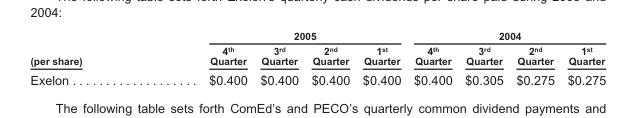table: (29, 29, 605, 86)
table column: (29, 29, 144, 86), (144, 29, 253, 86), (457, 29, 509, 86), (253, 29, 304, 86), (304, 29, 355, 86), (355, 29, 406, 86), (406, 29, 457, 86), (509, 29, 560, 86), (560, 29, 605, 86)
table column header: (29, 29, 605, 69)
table row: (29, 42, 605, 69), (29, 69, 605, 86), (29, 29, 605, 42)
table spanning cell: (29, 29, 144, 69), (144, 29, 406, 42), (406, 29, 605, 42)
